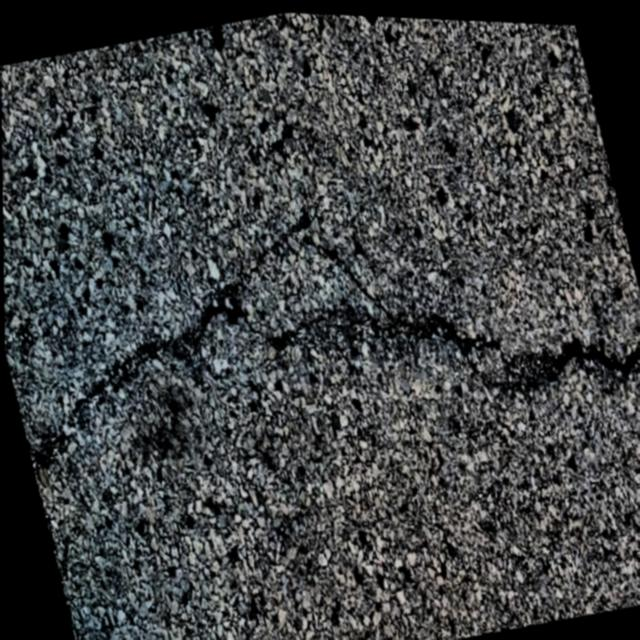cracks: (33, 308, 632, 465)
